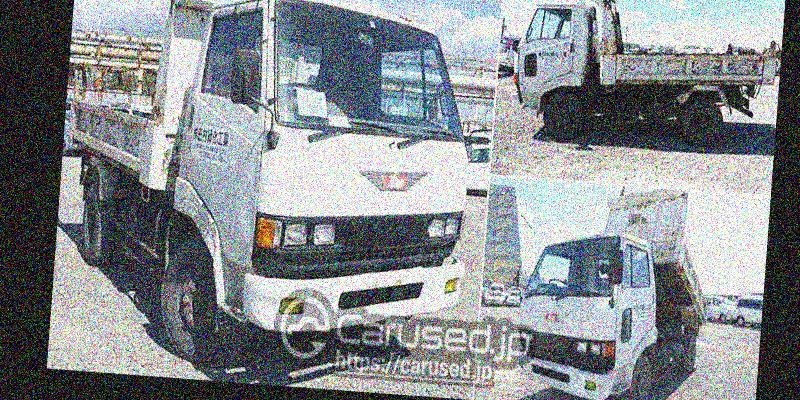truck: (48, 0, 478, 386), (504, 178, 722, 400), (506, 0, 787, 159)
